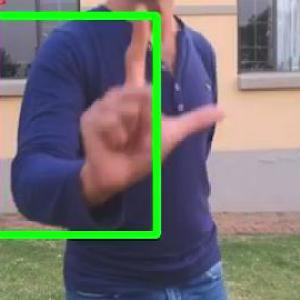land_hand: (76, 0, 228, 194)
